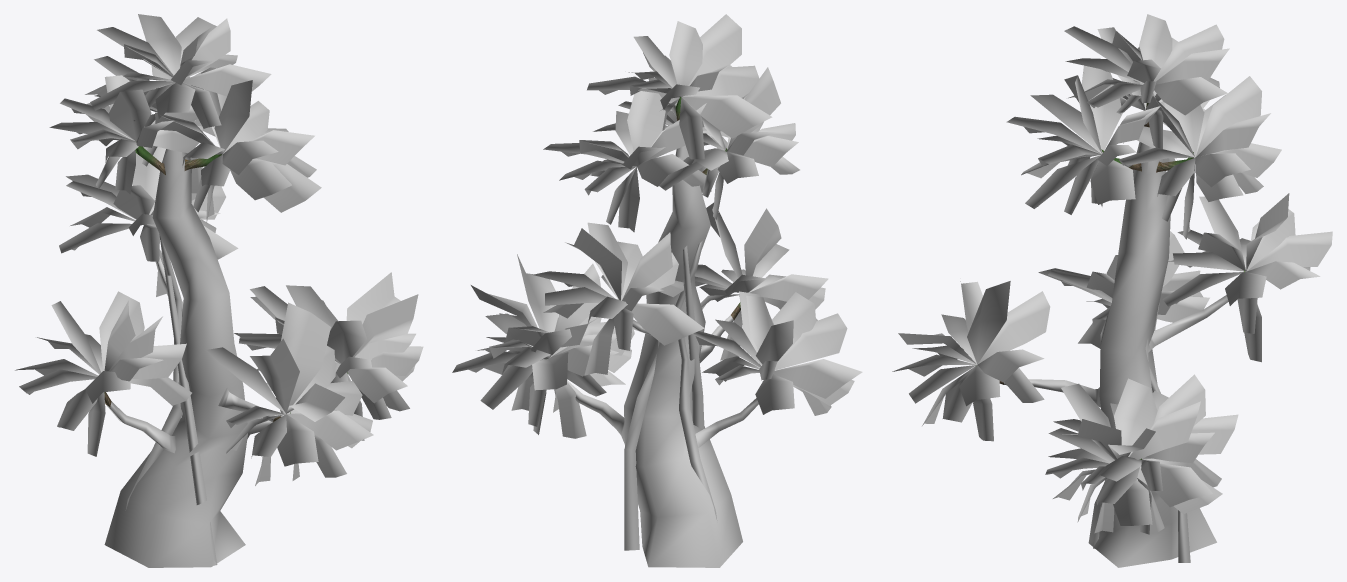
The model's file is Plant6_1_L4.fbx.
3 views of the same model, side by side, from view 1: azimuth 30°, elevation 25°; view 2: azimuth 150°, elevation 25°; view 3: azimuth 270°, elevation 25° (orthographic). The views are drawn at different scales.
Parts seen in each view (by area): view 1: polySurface2053; view 2: polySurface2053; view 3: polySurface2053.
Part boxes in pixels (x1,y1,x2,y2): polySurface2053: (15, 14, 423, 567); polySurface2053: (452, 14, 862, 567); polySurface2053: (892, 14, 1332, 567).
Size of the model in its own units: 723 by 936 by 718.
